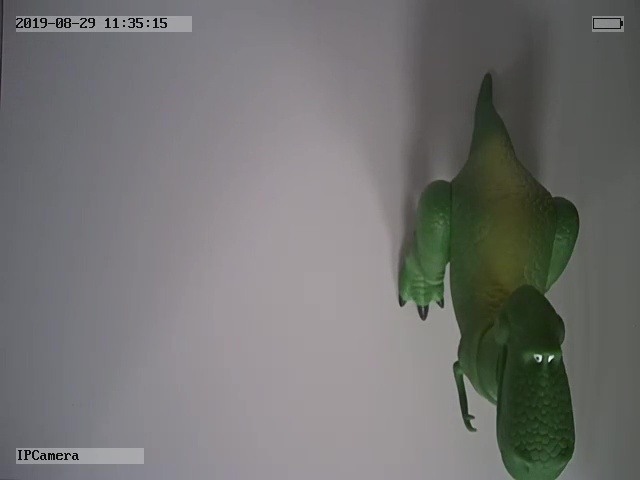rex: (396, 70, 580, 480)
